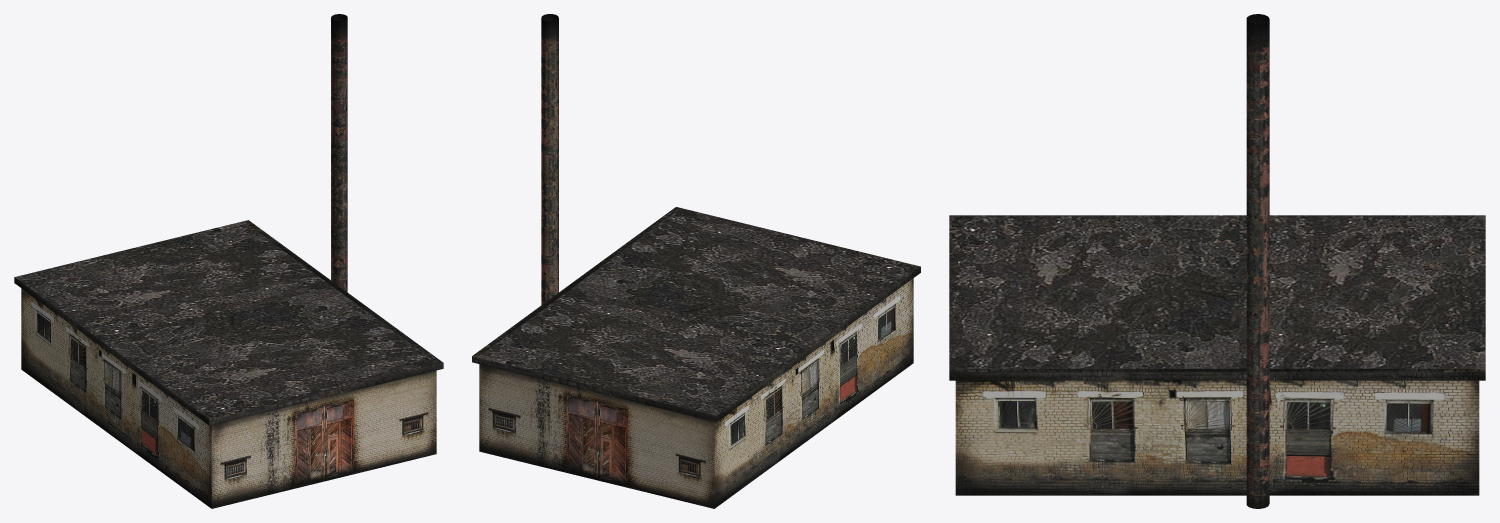
File: sibir_kotelnaya.FBX
3 views of the same model, side by side, from view 1: azimuth 30°, elevation 25°; view 2: azimuth 150°, elevation 25°; view 3: azimuth 270°, elevation 25° (orthographic). The views are drawn at different scales.
Visible parts, largest first — view 1: sibir_kotelnaya; view 2: sibir_kotelnaya; view 3: sibir_kotelnaya.
Part boxes in pixels (box(x1,y1,x2,y2)): sibir_kotelnaya: box(14, 14, 443, 508); sibir_kotelnaya: box(472, 14, 920, 508); sibir_kotelnaya: box(949, 14, 1485, 508).
Size of the model in its own units: 1281 by 1735 by 1731.
